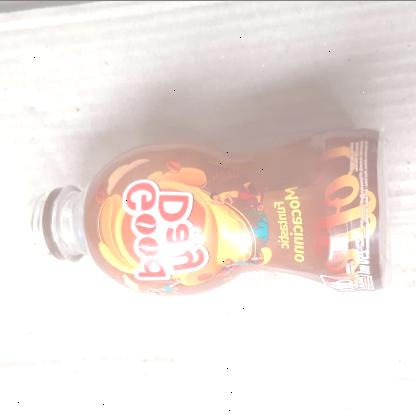Plastic Bottle: (26, 126, 396, 294)
